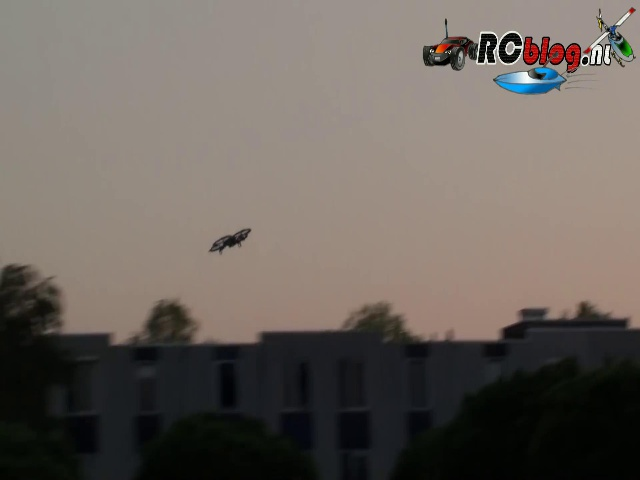drone: (207, 225, 252, 257)
